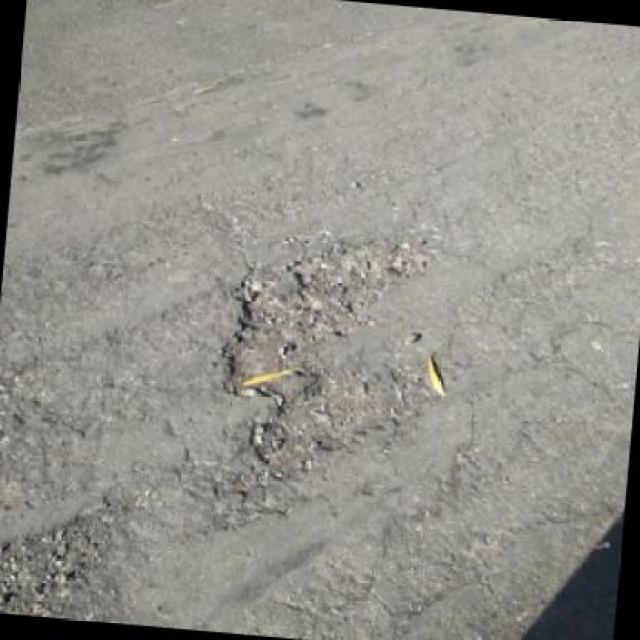pothole1: (203, 224, 454, 484), (0, 498, 123, 624)
